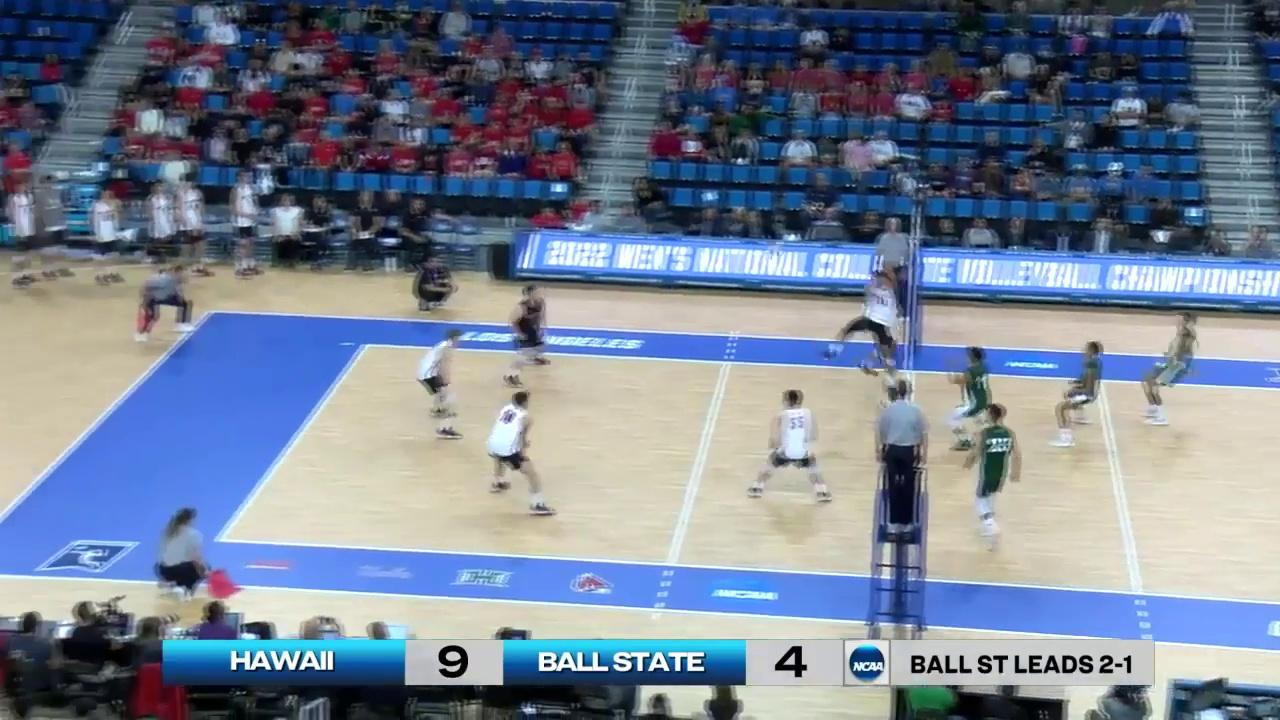player: (744, 389, 826, 500), (487, 393, 557, 518), (828, 270, 902, 385), (966, 406, 1021, 551), (1142, 308, 1199, 427), (945, 347, 998, 453), (1053, 338, 1103, 450), (416, 331, 462, 440), (506, 284, 547, 382)
refree: (876, 381, 929, 538), (152, 504, 232, 600), (136, 262, 196, 343), (872, 217, 913, 331)
